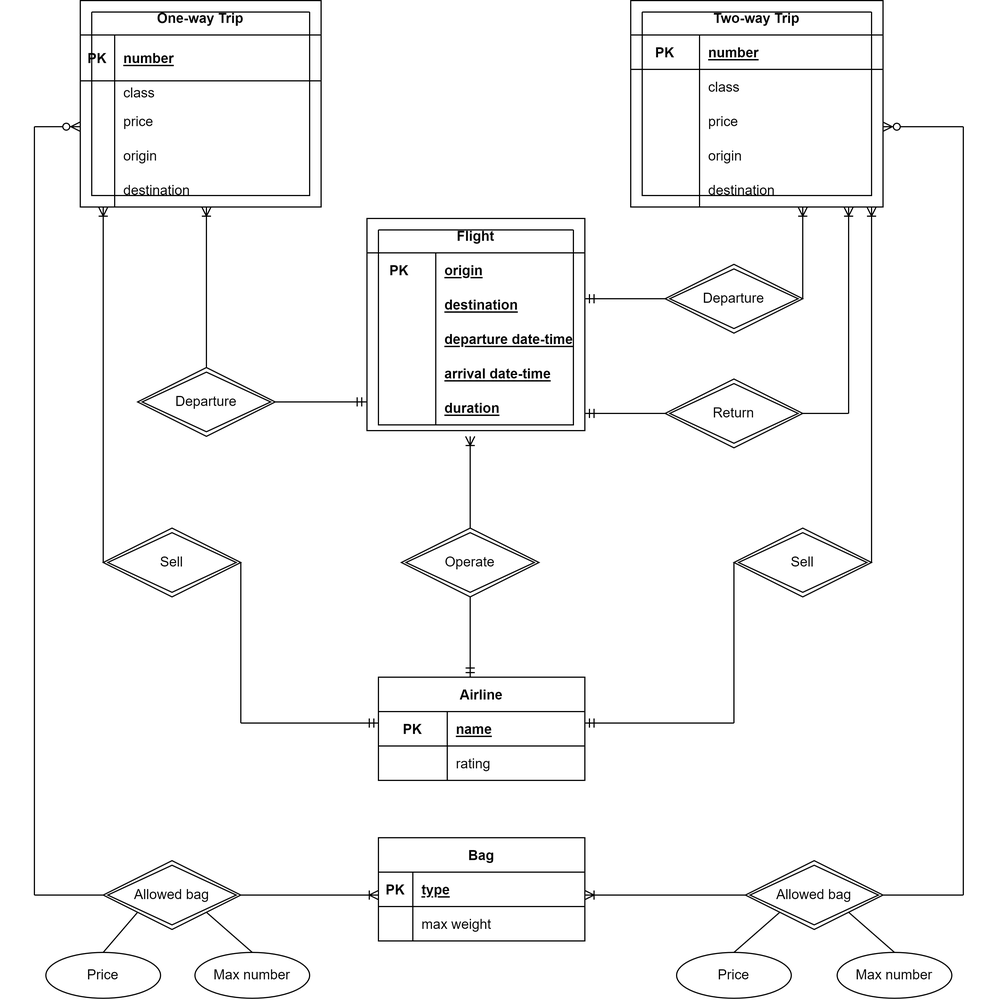attribute: (832, 944, 972, 999), (667, 945, 802, 1000), (191, 945, 318, 1000), (43, 949, 167, 1000)
entity: (356, 211, 602, 442), (628, 1, 894, 210), (72, 1, 329, 214), (371, 670, 604, 795), (367, 830, 591, 952)
relationship: (722, 521, 882, 601), (735, 852, 898, 930), (93, 529, 252, 603), (666, 365, 801, 452), (92, 860, 250, 931), (129, 361, 276, 434), (397, 530, 539, 598), (664, 271, 805, 328)
